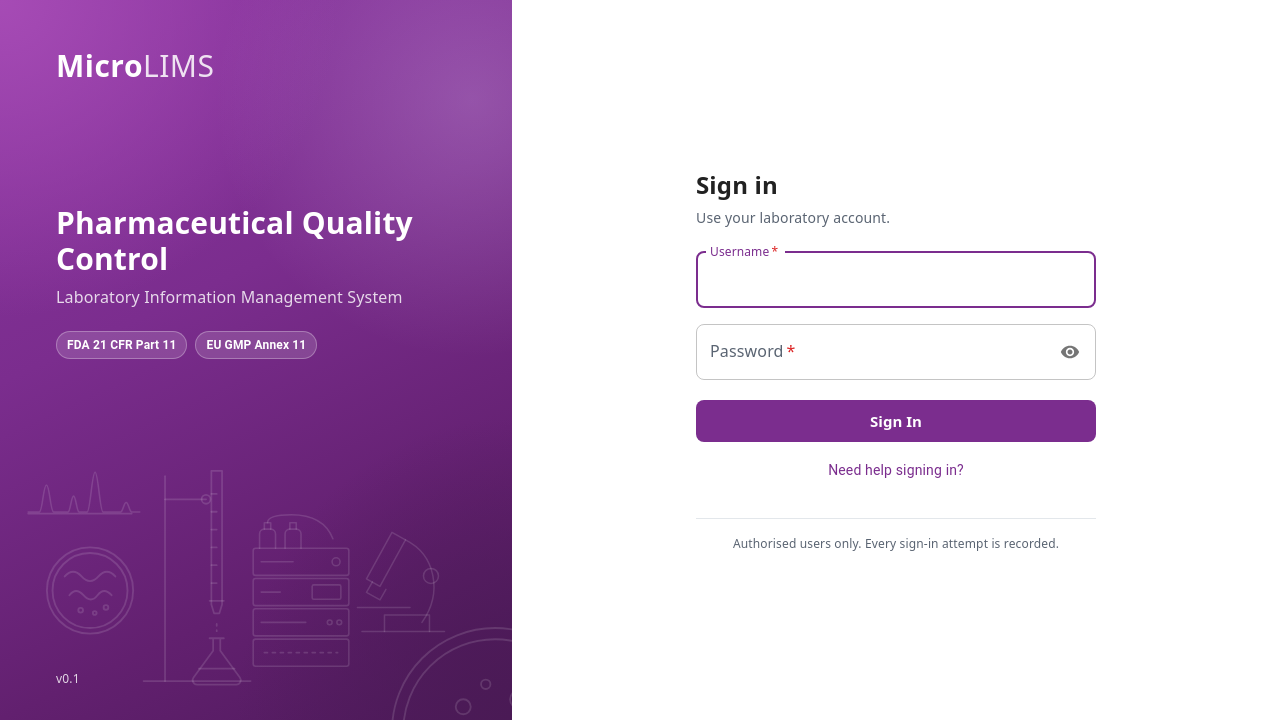
Scenario: LoginPage › offers both recovery routes on the help screen
Click the button "Need help signing in?": click(896, 471) [828,460,964,481]
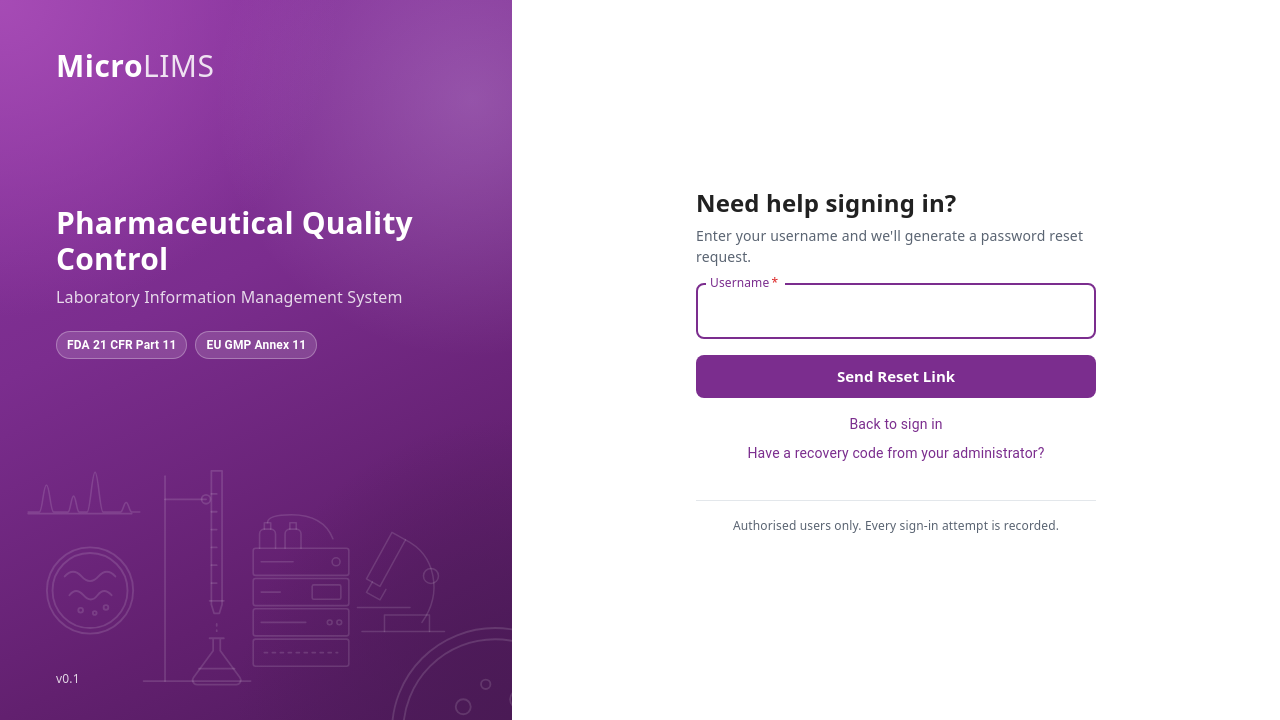
Check: the heading "Need help signing in?" is shown, box [696,186,956,219]
Check: the button "Send Reset Link" is shown, box [696,355,1096,398]
Check: the link "Have a recovery code from your administrator?" is shown, box [748,445,1044,461]
